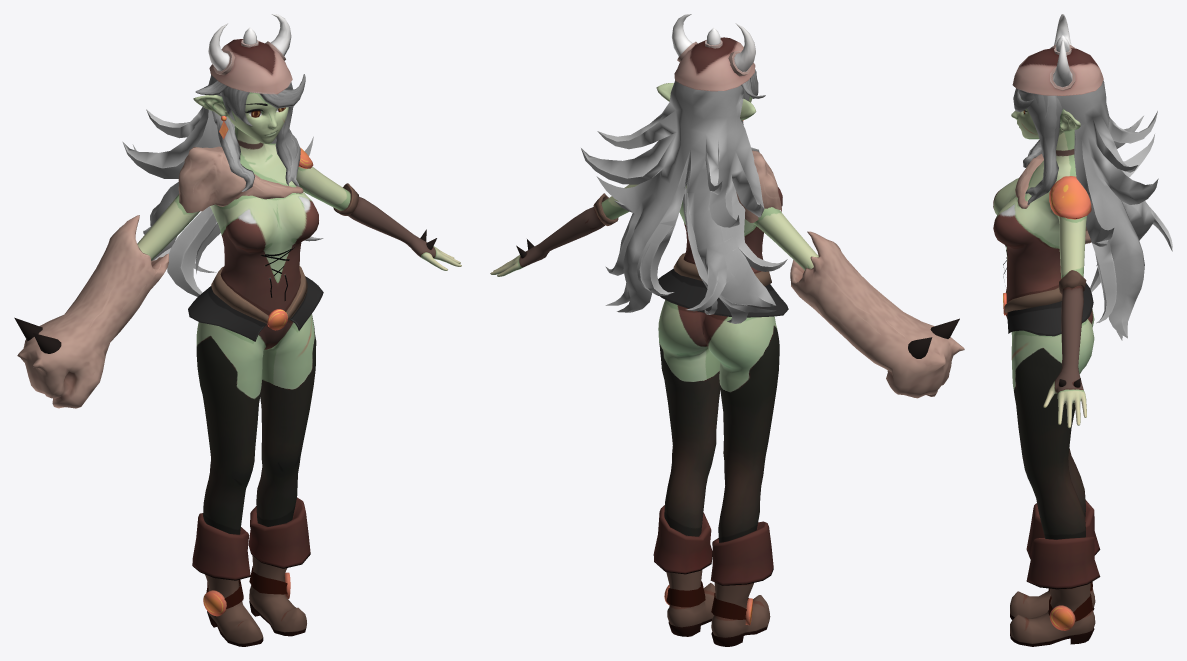
The model's file is elf.fbx.
3 views of the same model, side by side, from view 1: azimuth 30°, elevation 25°; view 2: azimuth 150°, elevation 25°; view 3: azimuth 270°, elevation 25° (orthographic).
Visible parts, largest first — view 1: boot.001, pCube16.002, pCube16.001; view 2: boot.001, pCube16.002, pCube16.001; view 3: boot.001, pCube16.002, pCube16.001.
Boxes of the visible parts, x1,y1,x2,y2 form: boot.001: (14,92,461,646); pCube16.002: (122,74,323,296); pCube16.001: (208,14,292,94); boot.001: (490,83,964,646); pCube16.002: (581,69,787,323); pCube16.001: (672,14,755,91); boot.001: (993,97,1100,646); pCube16.002: (1013,80,1172,340); pCube16.001: (1012,14,1103,95).
Size of the model in its own units: 1.45 by 1.87 by 0.5062.
